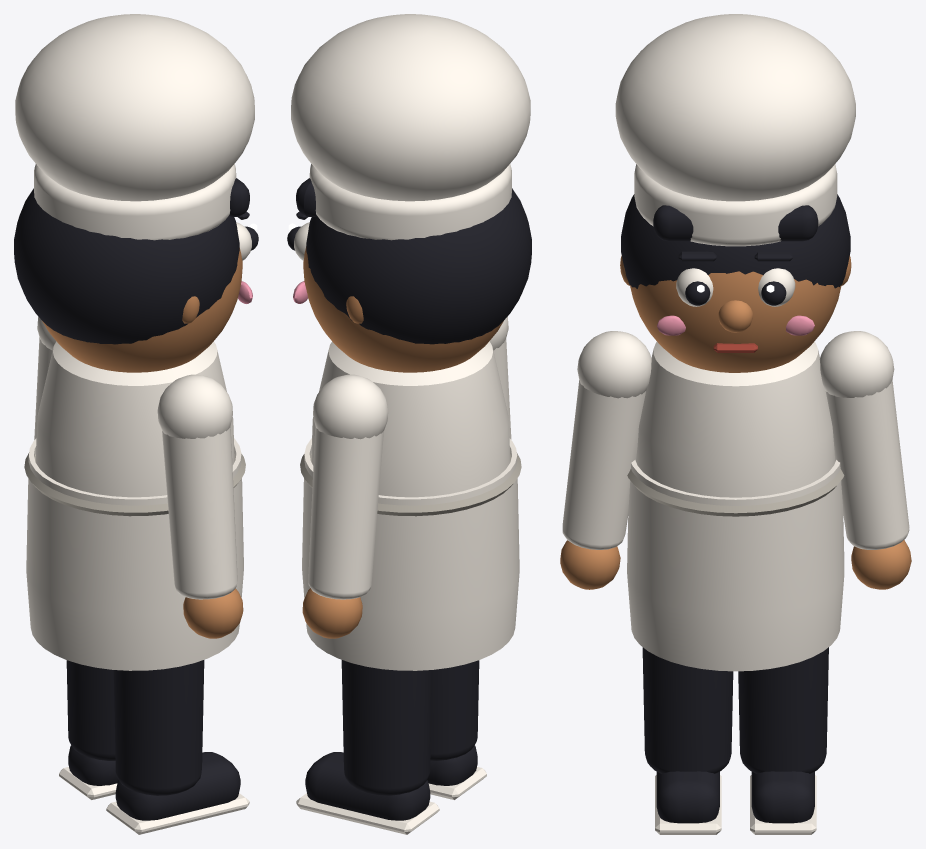
The model's file is ped_chef.glb.
3 renders of one model, left to right at view 1: azimuth 30°, elevation 25°; view 2: azimuth 150°, elevation 25°; view 3: azimuth 270°, elevation 25°, orthographic.
Visible parts, largest first — view 1: ped_chef; view 2: ped_chef; view 3: ped_chef.
Part boxes in pixels (bbox=[...]): ped_chef: bbox=[14, 14, 258, 834]; ped_chef: bbox=[287, 14, 531, 834]; ped_chef: bbox=[560, 14, 911, 834].
Bounding box in the file's own units: 0.3843 × 1.34 × 0.5543.
1 material, 1 textured.
